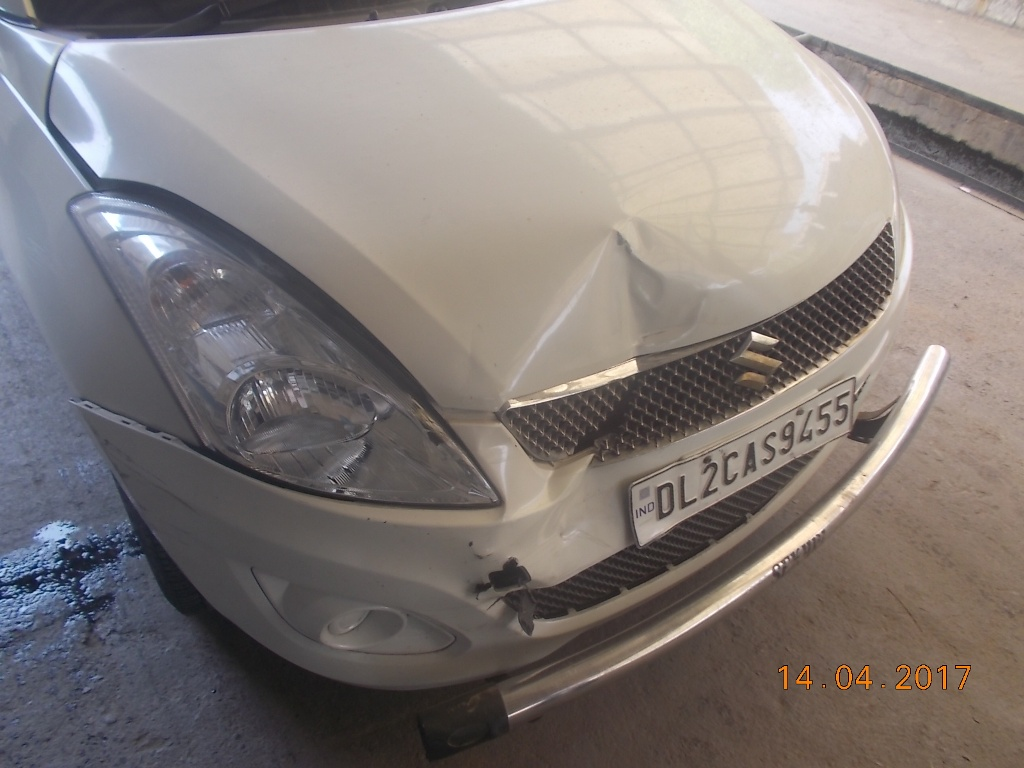Dent: (485, 198, 724, 337), (503, 473, 598, 569)
